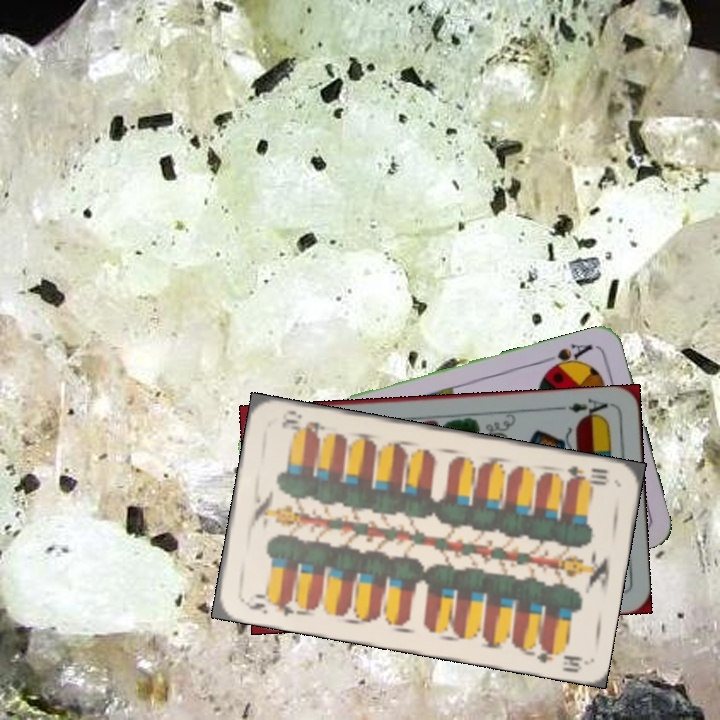E10: (241, 589, 298, 619), (563, 461, 613, 488)
EA: (555, 394, 610, 422)
SA: (539, 339, 596, 375)
